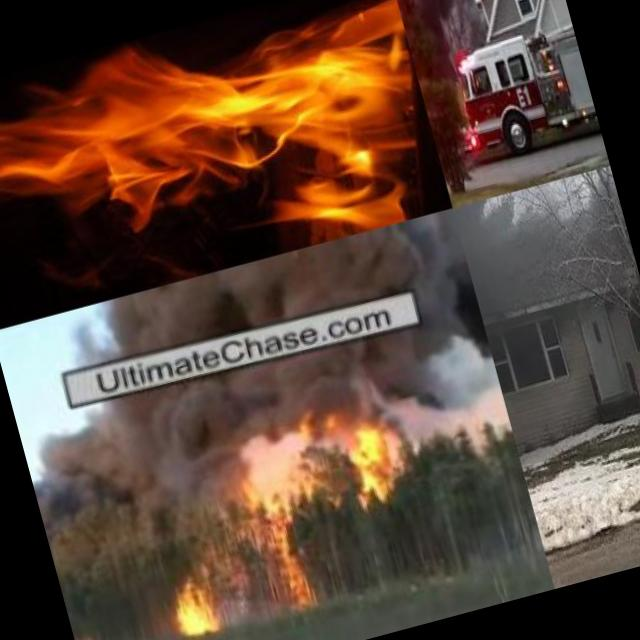fire: (0, 0, 452, 331), (230, 413, 424, 620), (157, 563, 233, 640), (71, 622, 104, 640)
smoke: (19, 343, 380, 506), (362, 311, 516, 477), (452, 184, 573, 333), (120, 454, 244, 536)
